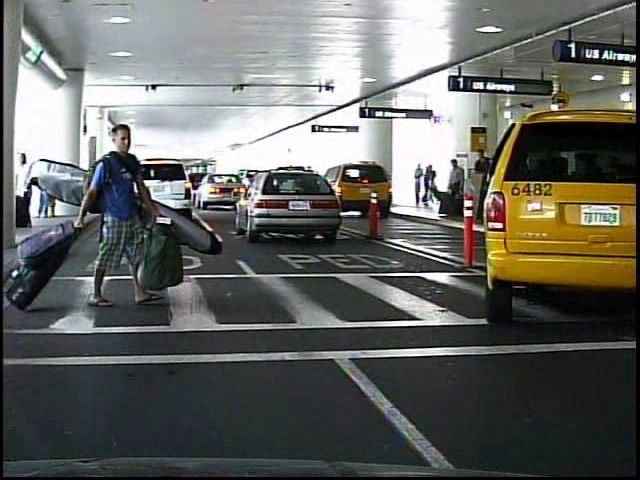person: (86, 114, 157, 326), (443, 159, 465, 219), (485, 145, 499, 215), (411, 163, 423, 208), (423, 165, 434, 209)
